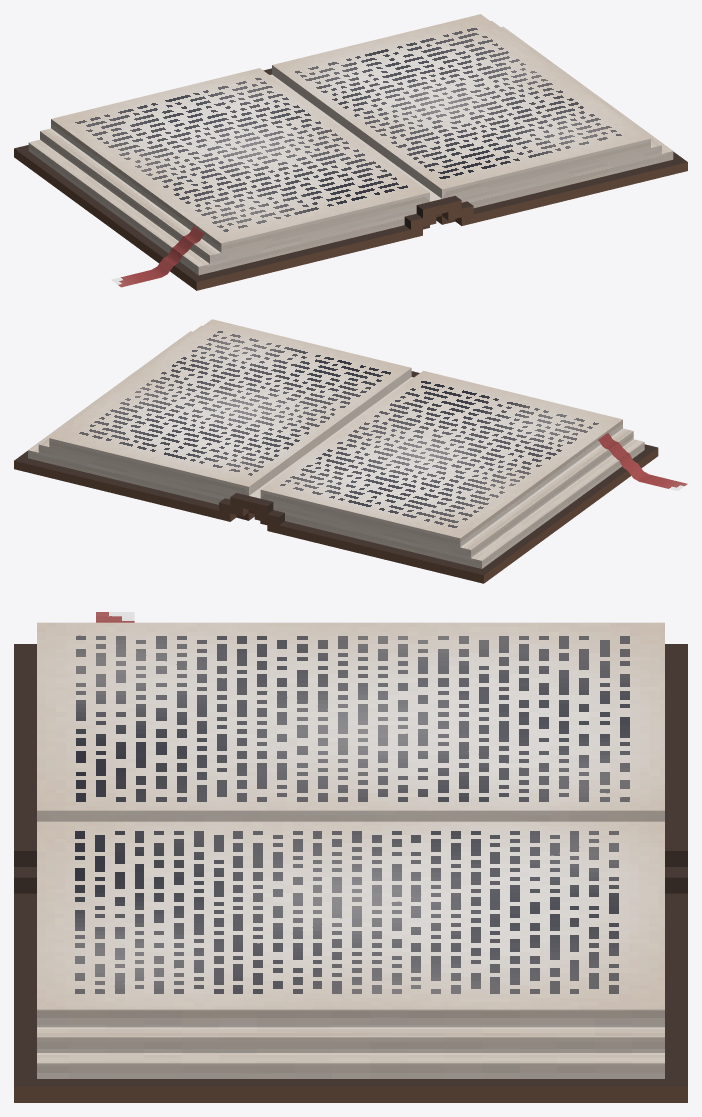
The model's file is Journal.fbx.
3 views of the same model, one above another, from view 1: azimuth 30°, elevation 25°; view 2: azimuth 150°, elevation 25°; view 3: azimuth 270°, elevation 25° (orthographic). The views are drawn at different scales.
Parts seen in each view (by area): view 1: Journal, Bookmark; view 2: Journal, Bookmark; view 3: Journal.
Boxes of the visible parts, left/top/right/bottom form: Journal: left=14, top=14, right=687, bottom=290; Bookmark: left=111, top=226, right=204, bottom=287; Journal: left=14, top=319, right=658, bottom=583; Bookmark: left=598, top=433, right=687, bottom=490; Journal: left=14, top=622, right=687, bottom=1102.
Bounding box in the file's own units: 381 × 23.67 × 221.
Materials: 1 (1 with a texture image).
